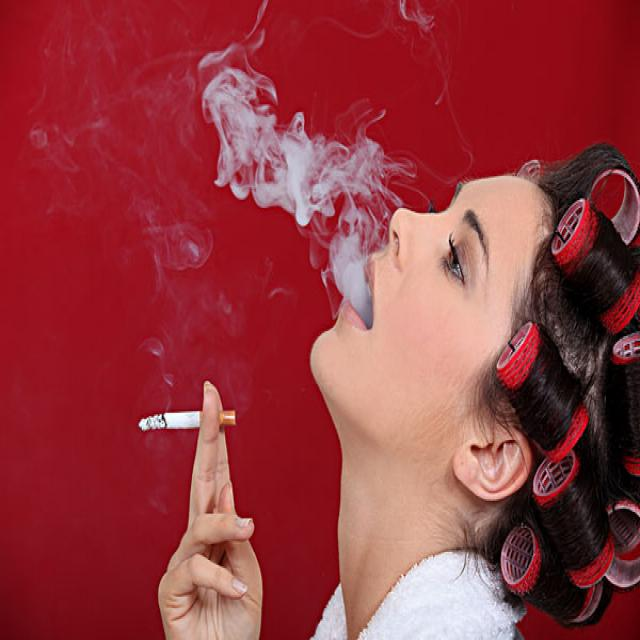smoking: (138, 406, 235, 436)
